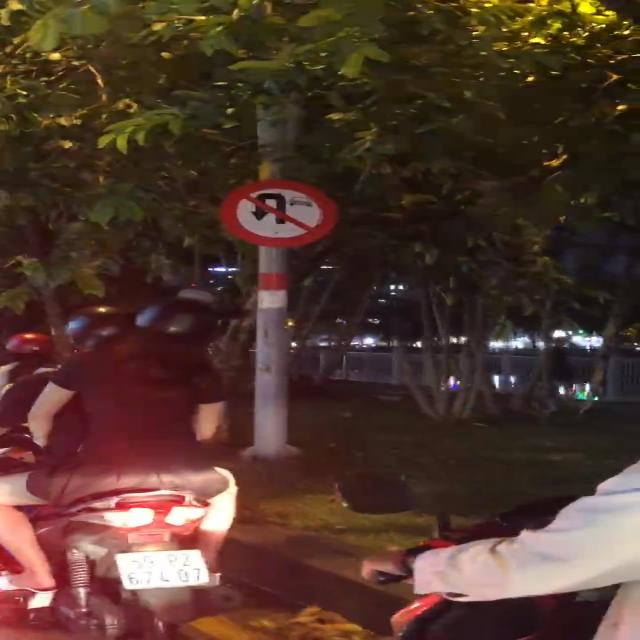Bien bao cam quay dau xe: (217, 179, 344, 250)
